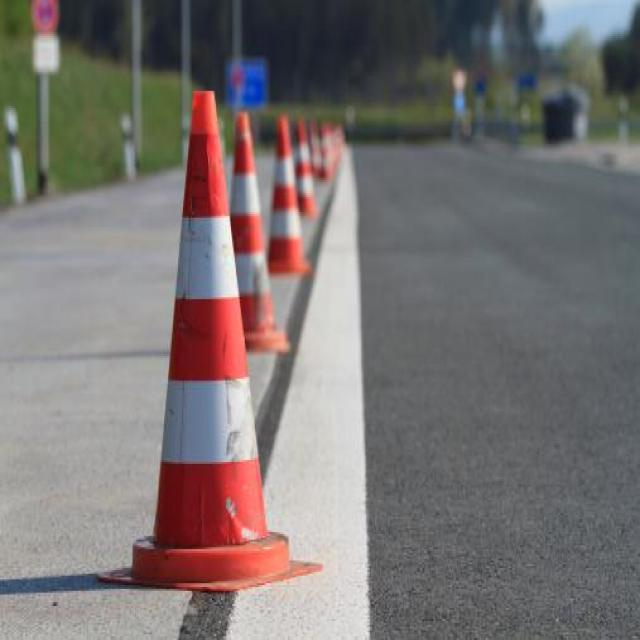Cone: (137, 91, 286, 587), (219, 112, 294, 350), (266, 116, 304, 274), (293, 115, 322, 214), (309, 118, 336, 186)
